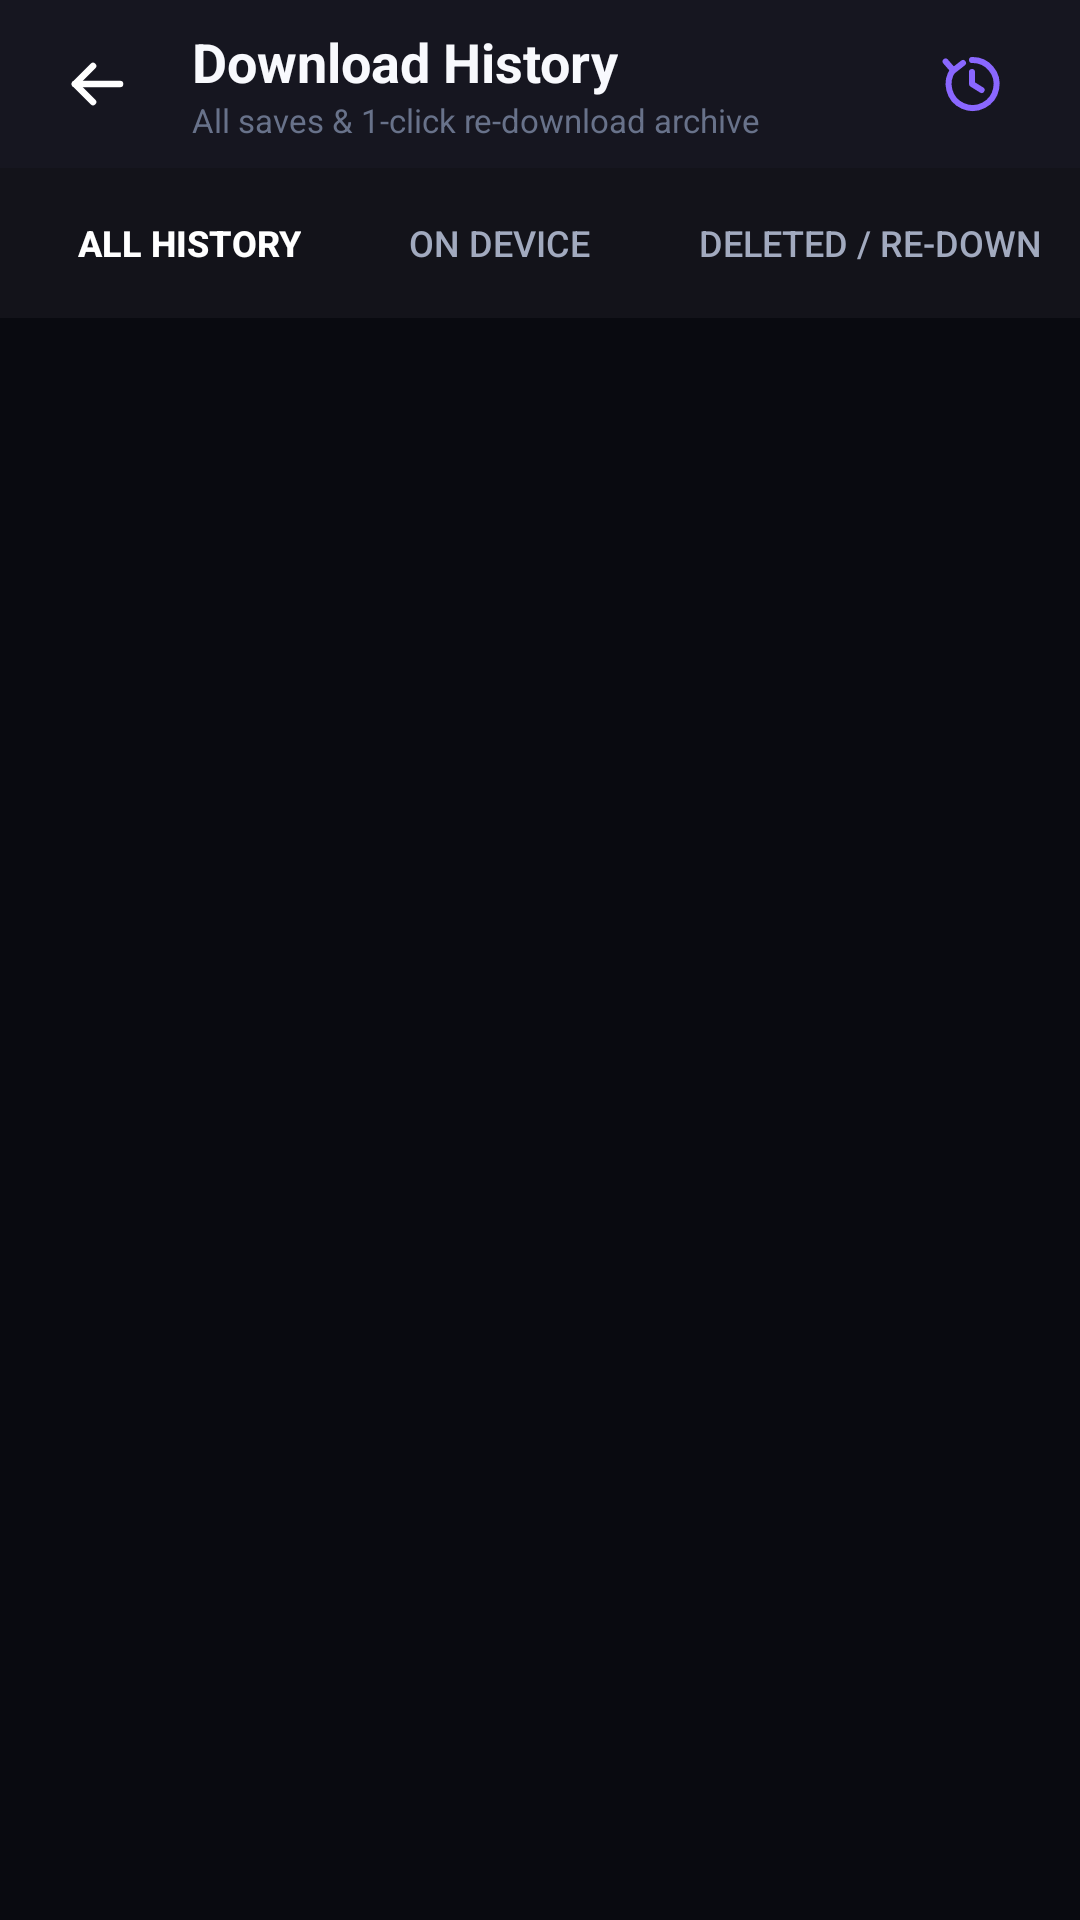

Named icons in this screenshot (1080px x 1920px) and their bounding boxes, (left=x1, top=y1, right=x2, bottom=y2):
Back: (left=71, top=62, right=124, bottom=106)
